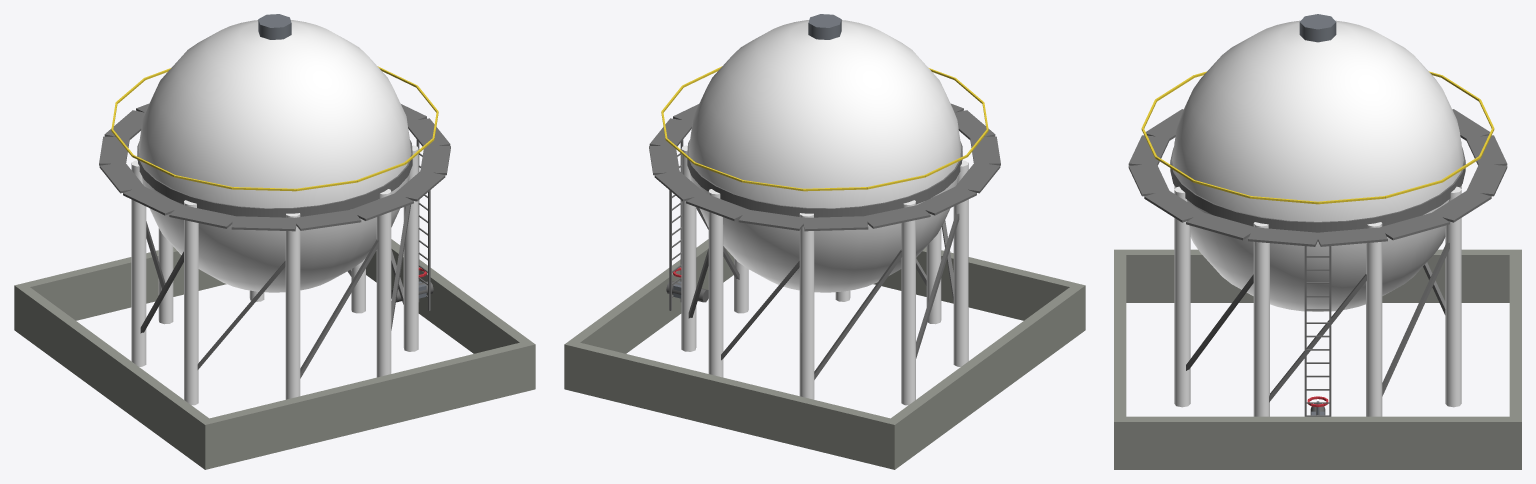
File: port_cargo4_close.fbx
3 views of the same model, side by side, from view 1: azimuth 30°, elevation 25°; view 2: azimuth 150°, elevation 25°; view 3: azimuth 270°, elevation 25° (orthographic). The views are drawn at different scales.
Parts seen in each view (by area): view 1: a402_0_port_cargo4_close; view 2: a402_0_port_cargo4_close; view 3: a402_0_port_cargo4_close.
Boxes of the visible parts, x1,y1,x2,y2 form: a402_0_port_cargo4_close: [14, 14, 535, 469]; a402_0_port_cargo4_close: [564, 14, 1085, 469]; a402_0_port_cargo4_close: [1114, 14, 1521, 469].
Size of the model in its own units: 10 by 9.8 by 10.
